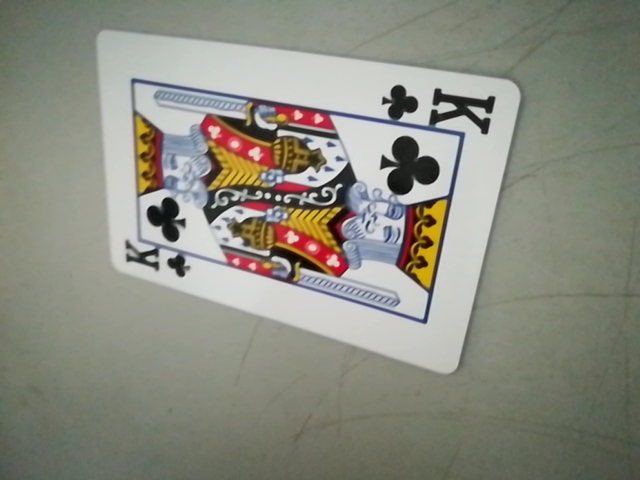mh k: (381, 79, 503, 133), (120, 239, 187, 282)
